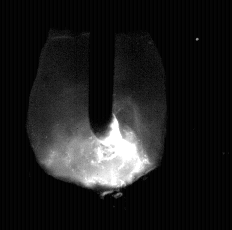arame: (88, 0, 114, 139)
poca: (26, 0, 167, 230)
